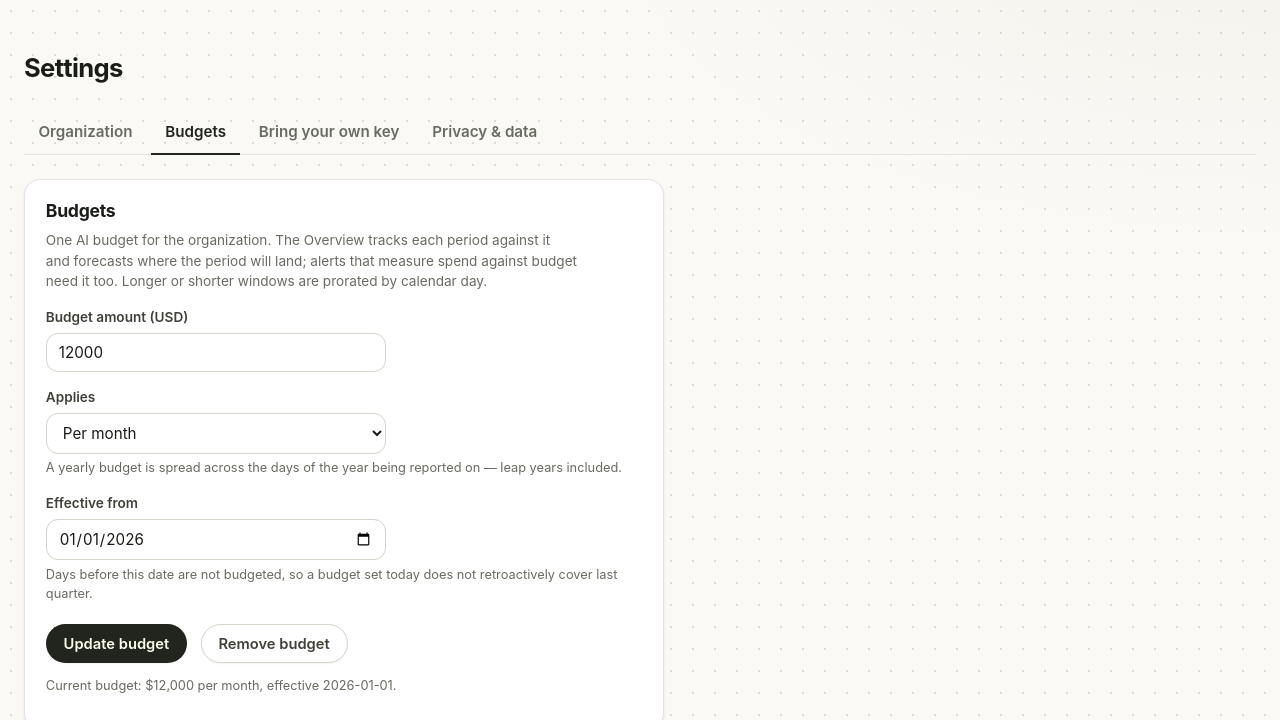
Budgets › removes the budget and goes back to saying there is none
Expected: the text "Current budget: $12,000 per month, effective 2026-01-01." is shown, [46, 678, 396, 693]
Click the button "Remove budget".
click(274, 643)  # box [201, 624, 348, 663]
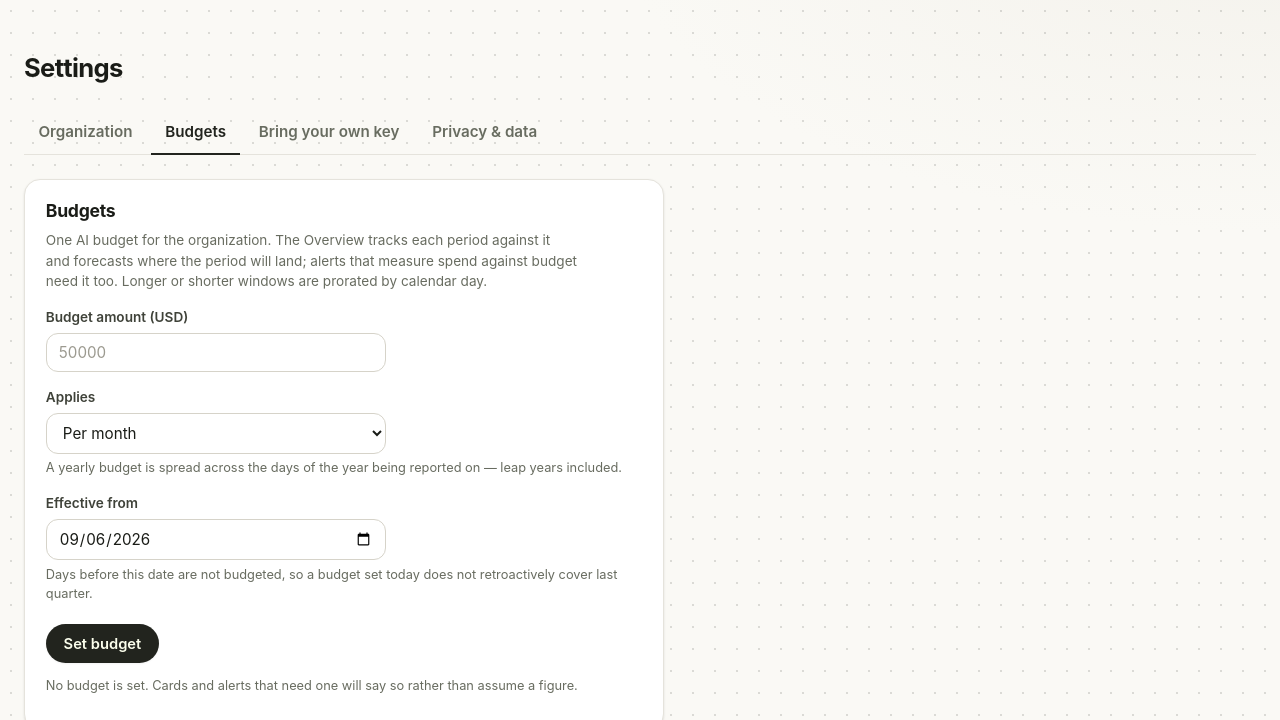
Result: the text "No budget is set" is shown at [46, 678, 578, 693]
